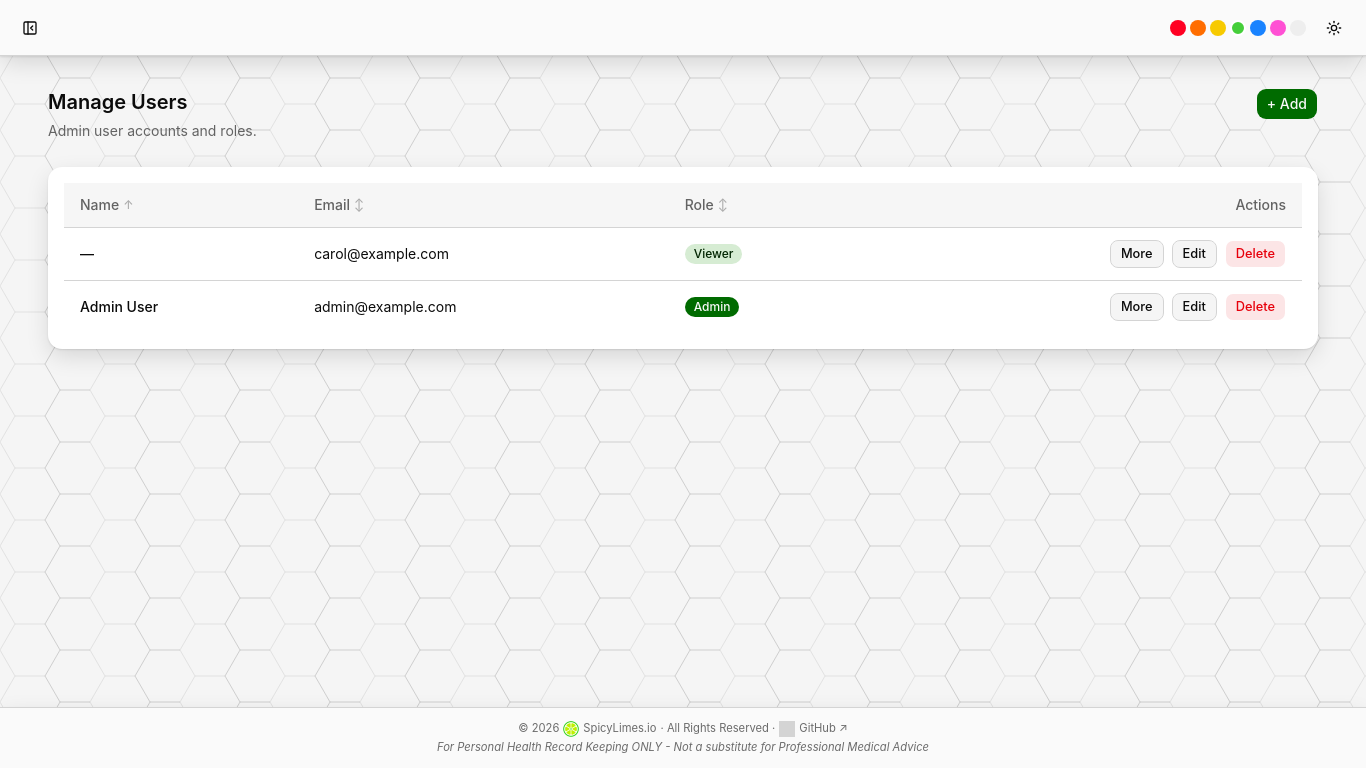
Test: UsersPage › includes Name field in create-user form
The width and height of the screenshot is (1366, 768).
Click the button "+ Add" at (1287, 104), box x1=1256 y1=88 x2=1318 y2=120
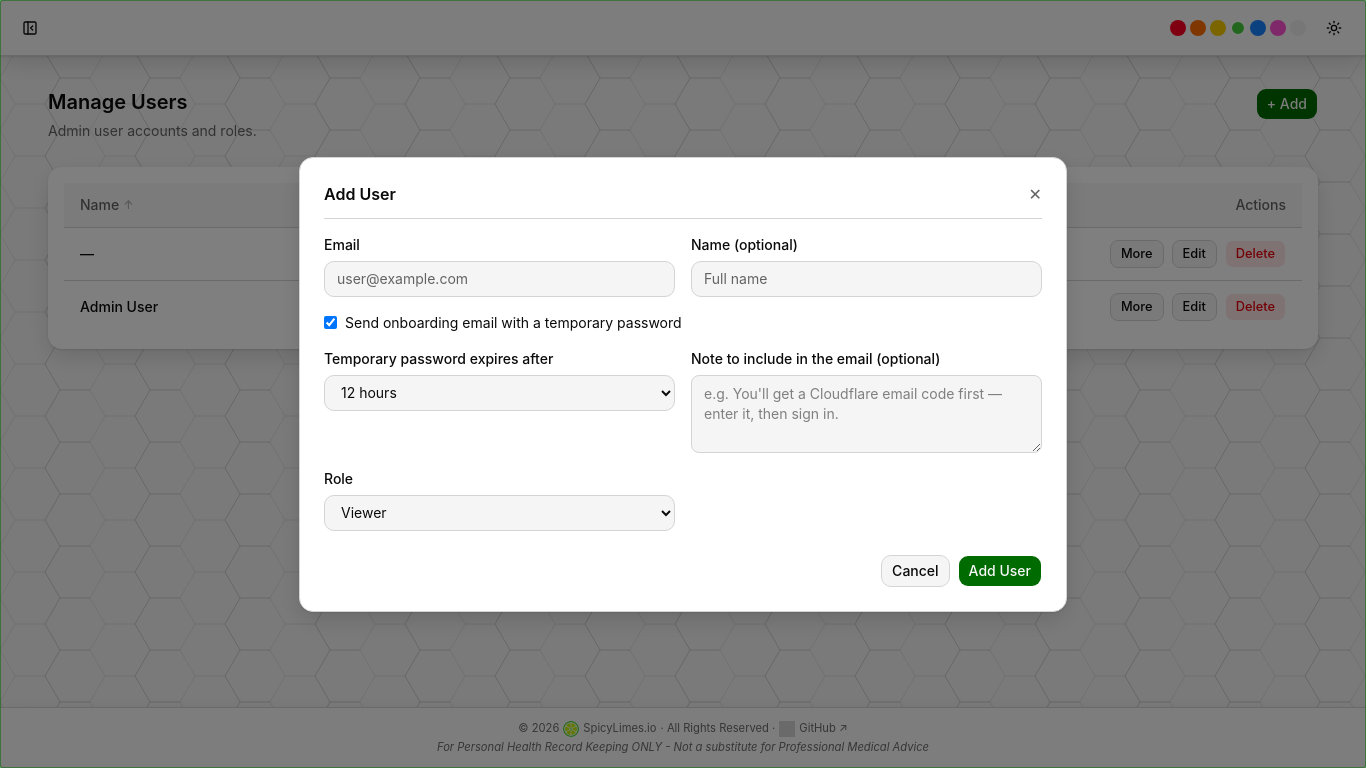
Expected: the field labelled "Name (optional)" is shown, x1=691 y1=260 x2=1042 y2=296
